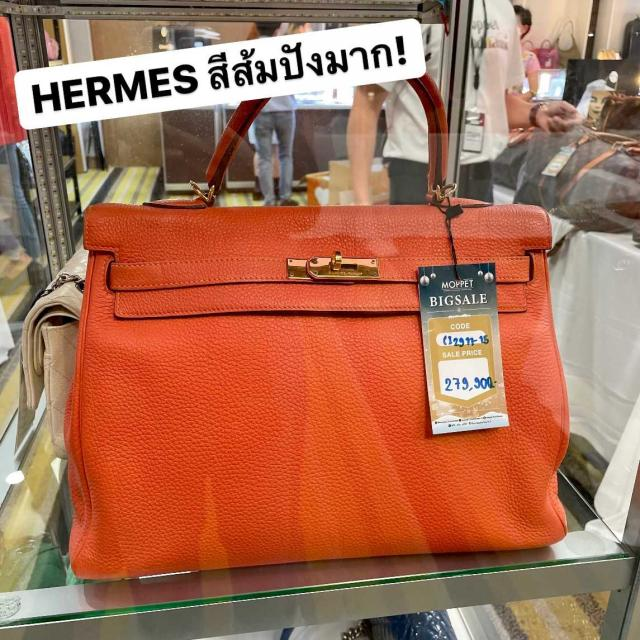handbag: (37, 185, 566, 604)
